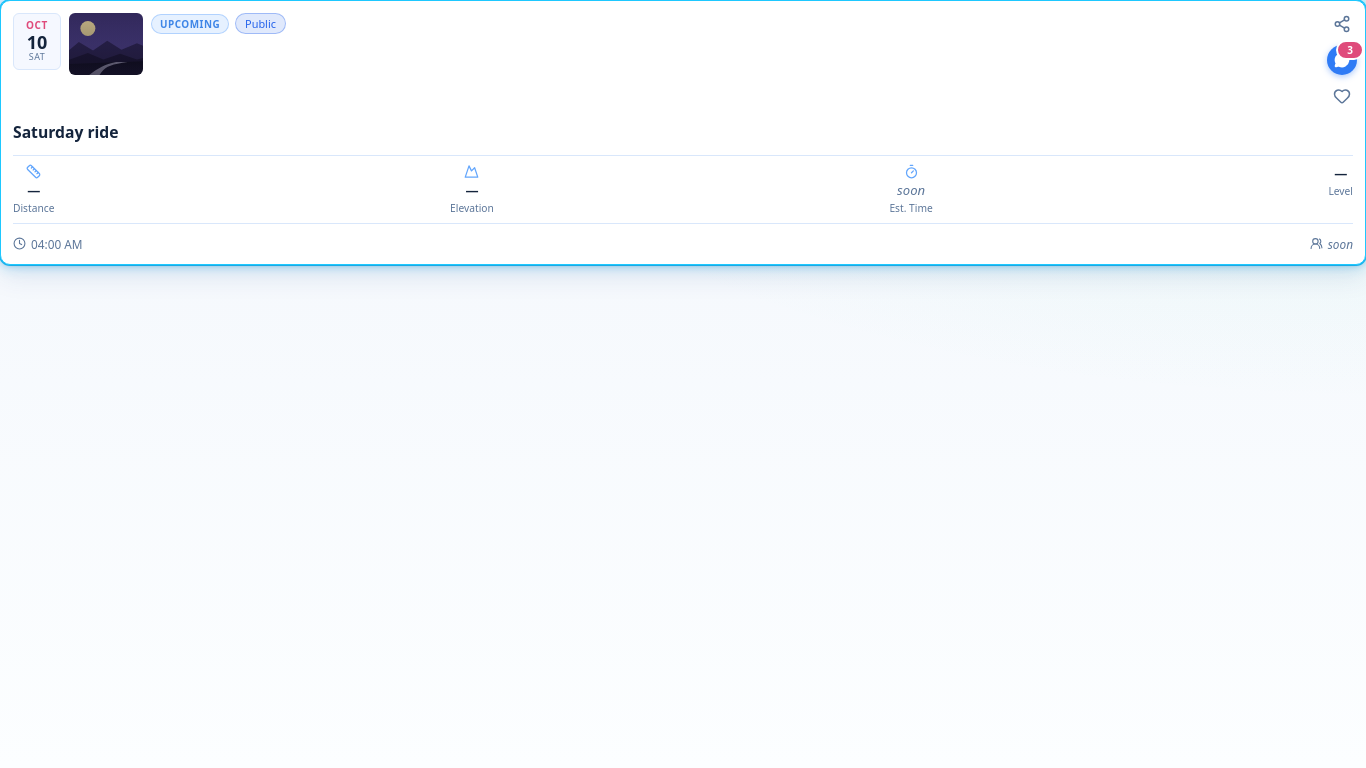
Test: EventCard Share (PROMOTE only) › tapping Share opens the sheet and cancels the card link (no navigation)
Click the button named "Share this event" at (1342, 24), box 1327,9 -> 1357,39
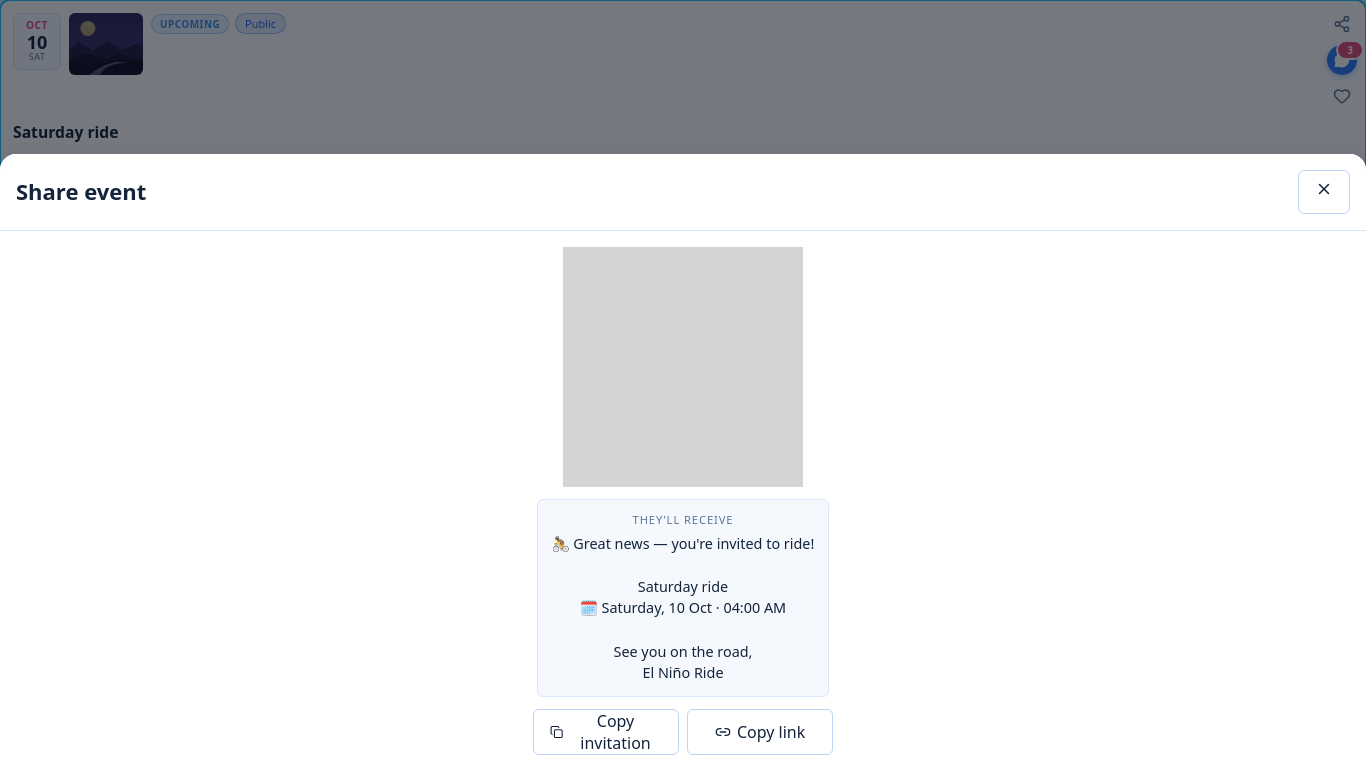
Now the button "Copy link" is shown, box 687,709 -> 833,755
